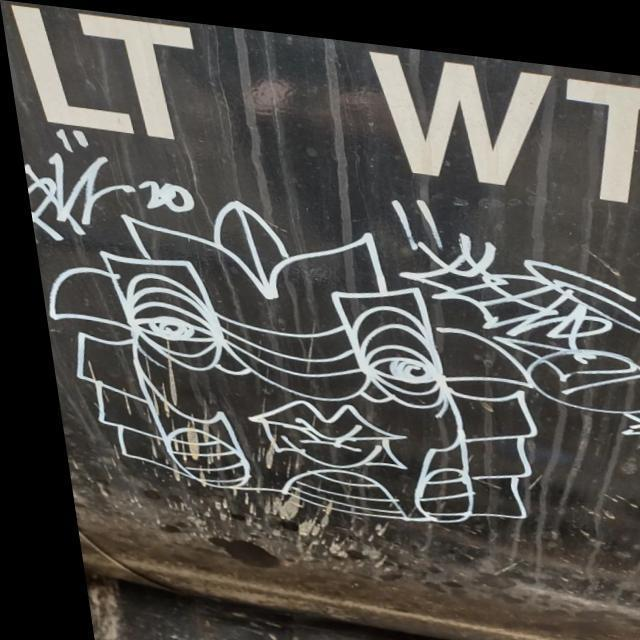nonspitting: (27, 128, 640, 526)
